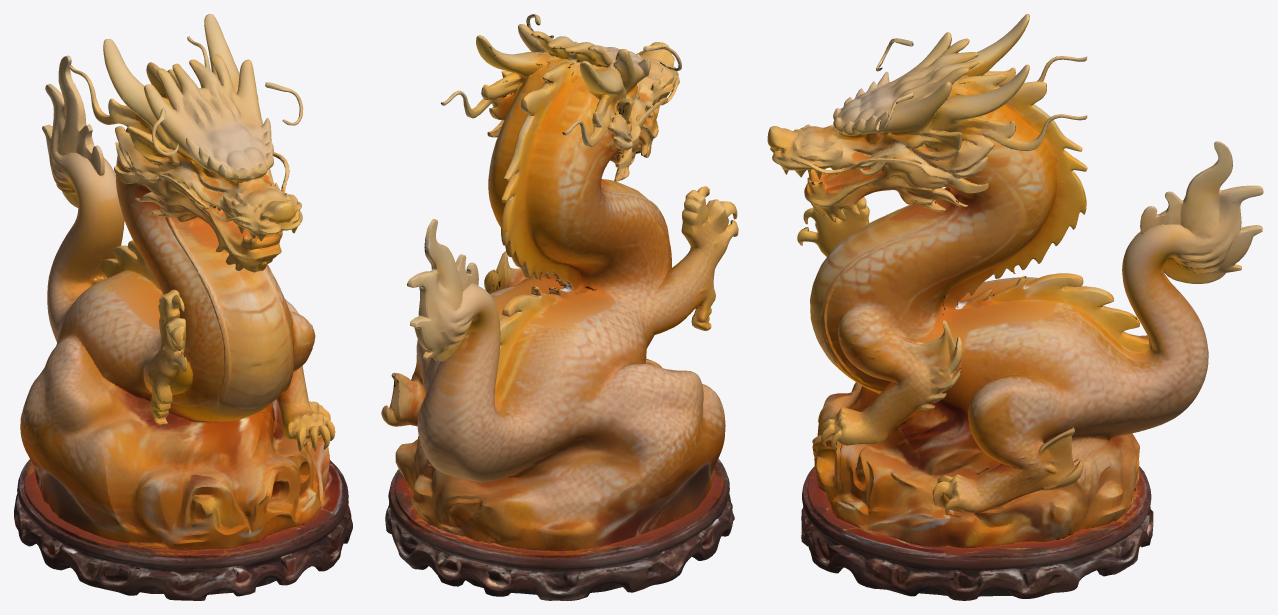
Rendered from knight.glb.
The picture shows the model from 3 angles, left to right: view 1: azimuth 30°, elevation 25°; view 2: azimuth 150°, elevation 25°; view 3: azimuth 270°, elevation 25°; orthographic projection. The views are drawn at different scales.
Parts seen in each view (by area): view 1: model; view 2: model; view 3: model.
Boxes of the visible parts, x1=… form: model: x1=14, y1=14, x2=352, y2=600; model: x1=381, y1=14, x2=738, y2=600; model: x1=767, y1=14, x2=1263, y2=600.
Size of the model in its own units: 1.14 by 1.9 by 1.7.
1 material, 1 textured.
